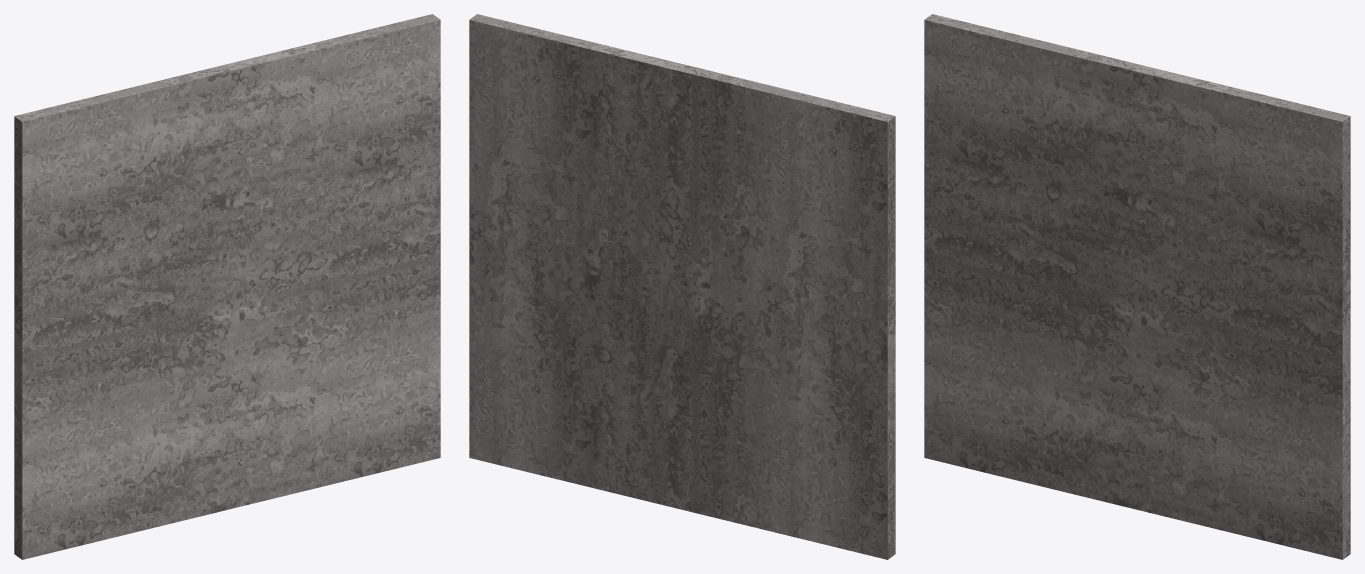
The model's file is MD_Cons_Wall01_fbx.fbx.
3 views of the same model, side by side, from view 1: azimuth 30°, elevation 25°; view 2: azimuth 150°, elevation 25°; view 3: azimuth 330°, elevation 25° (orthographic).
Parts seen in each view (by area): view 1: MD_Cons_Wall01; view 2: MD_Cons_Wall01; view 3: MD_Cons_Wall01.
Boxes of the visible parts, x1,y1,x2,y2 form: MD_Cons_Wall01: (14,14,440,559); MD_Cons_Wall01: (469,14,895,559); MD_Cons_Wall01: (924,14,1350,559).
Bounding box in the file's own units: 300 × 10 × 300.
Materials: 1 (1 with a texture image).
